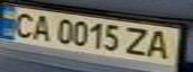0: (51, 16, 75, 45), (69, 18, 90, 47)
1: (87, 20, 106, 51)
5: (103, 21, 127, 54)
A: (142, 28, 175, 61), (27, 12, 54, 43)
C: (6, 9, 39, 39)
Z: (121, 25, 151, 58)
